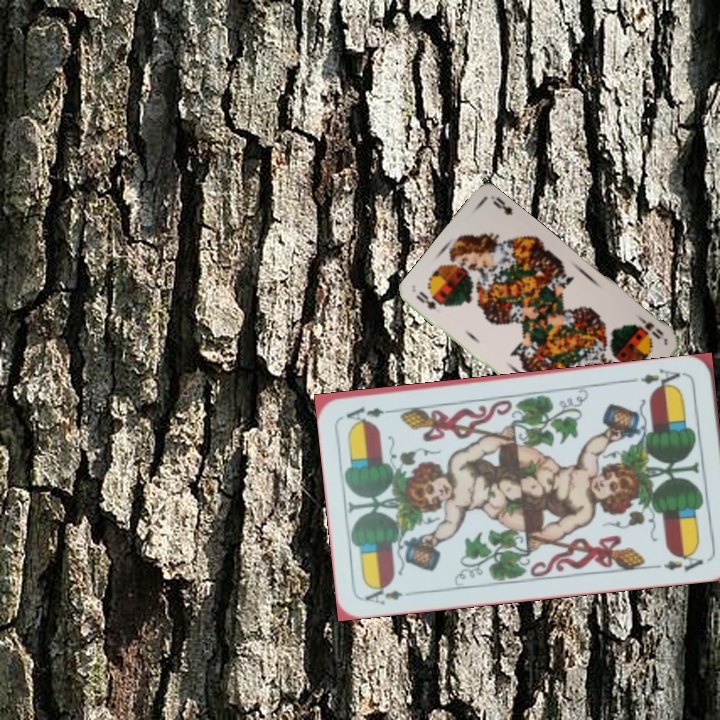EA: (637, 364, 688, 392), (360, 580, 405, 607)
SO: (630, 312, 666, 342), (412, 287, 439, 312)
